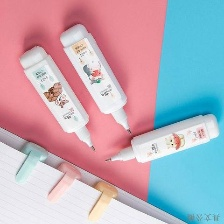correction_fluid: (17, 41, 97, 154), (57, 20, 133, 137), (101, 108, 221, 166)
